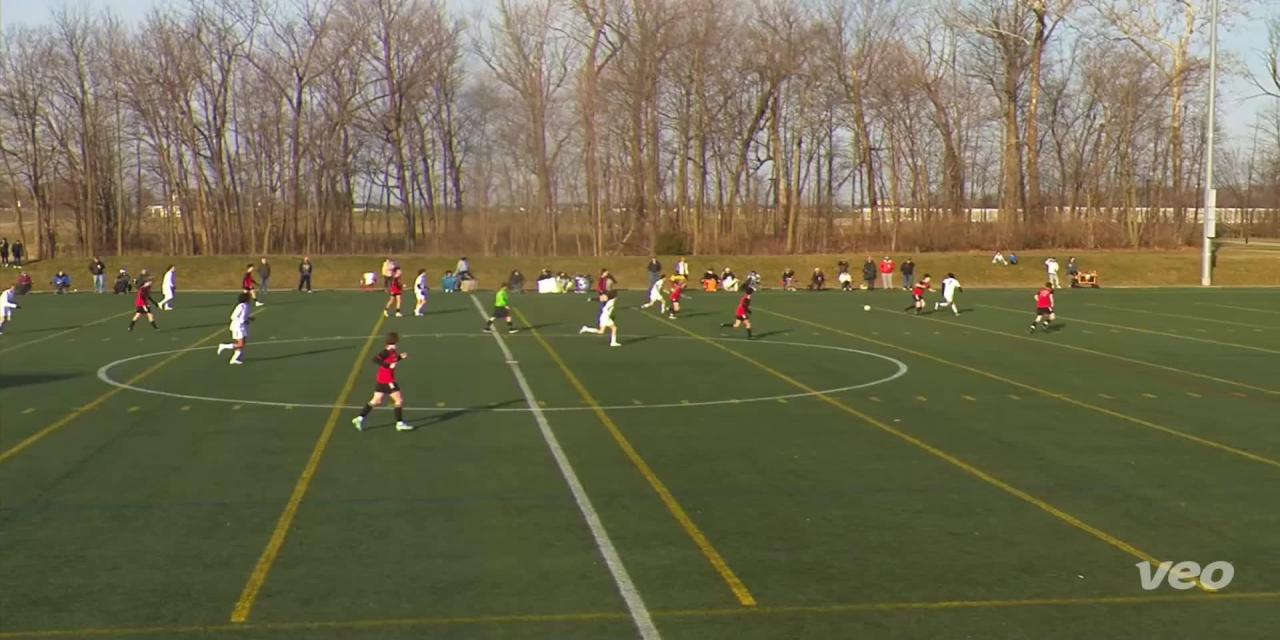sports ball: (859, 300, 875, 314)
